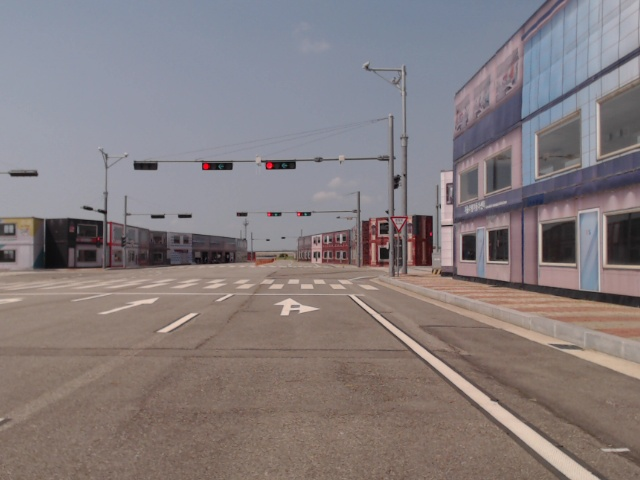left_green_4: (202, 163, 232, 170), (266, 162, 295, 169)
